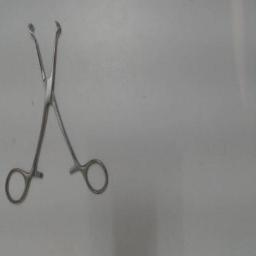Babcock Tissue Forceps: (4, 17, 112, 207)
